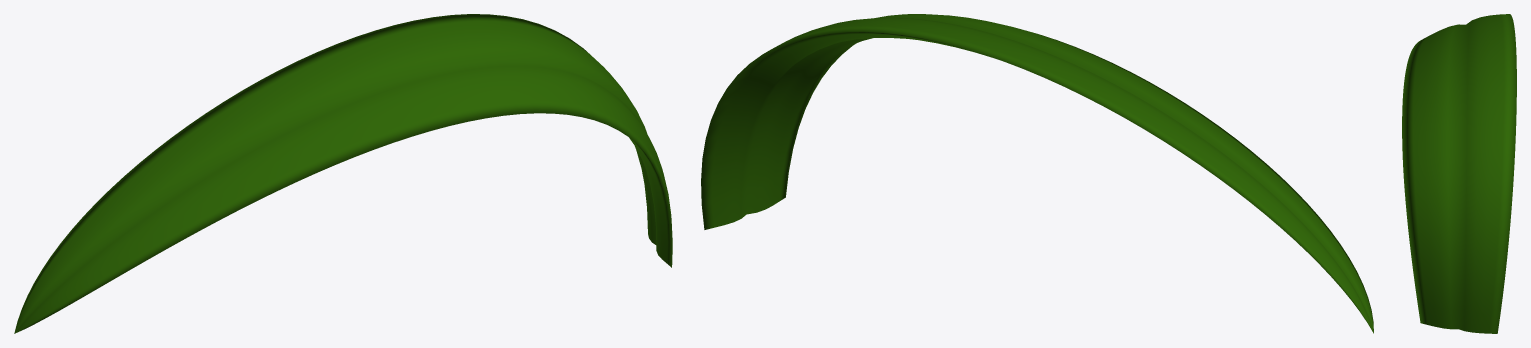
The picture shows the model from 3 angles, left to right: view 1: azimuth 30°, elevation 25°; view 2: azimuth 150°, elevation 25°; view 3: azimuth 270°, elevation 25°; orthographic projection. The views are drawn at different scales.
Visible parts, largest first — view 1: ТраекторияNurbs.012; view 2: ТраекторияNurbs.012; view 3: ТраекторияNurbs.012.
Boxes of the visible parts, bbox=[...] form: ТраекторияNurbs.012: bbox=[14, 14, 672, 333]; ТраекторияNurbs.012: bbox=[701, 14, 1373, 333]; ТраекторияNurbs.012: bbox=[1402, 14, 1516, 333].
Size of the model in its own units: 153 by 56.93 by 31.51.
